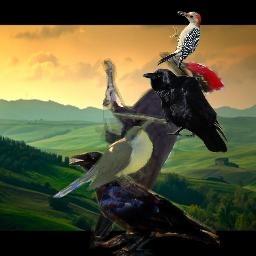Crow: (69, 151, 220, 256), (142, 68, 229, 154)
Cuckoo: (52, 126, 153, 198)
Woodpecker: (90, 52, 226, 249), (155, 9, 207, 67)
